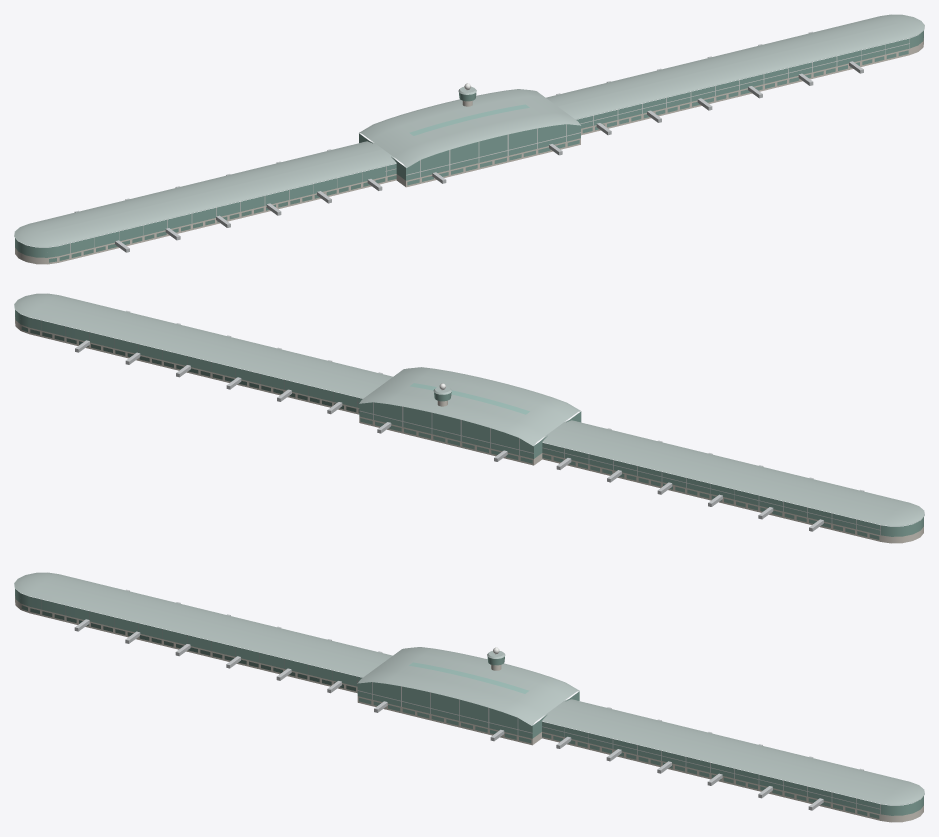
Rendered from incheon-airport-concourse.glb.
The picture shows the model from 3 angles, top to bottom: view 1: azimuth 30°, elevation 25°; view 2: azimuth 150°, elevation 25°; view 3: azimuth 330°, elevation 25°; orthographic projection.
Parts seen in each view (by area): view 1: Incheon International Airport Concourse; view 2: Incheon International Airport Concourse; view 3: Incheon International Airport Concourse.
Boxes of the visible parts, x1,y1,x2,y2 form: Incheon International Airport Concourse: [14, 14, 924, 264]; Incheon International Airport Concourse: [14, 293, 924, 543]; Incheon International Airport Concourse: [14, 572, 924, 822].
Bounding box in the file's own units: 931 × 50.4 × 120.
